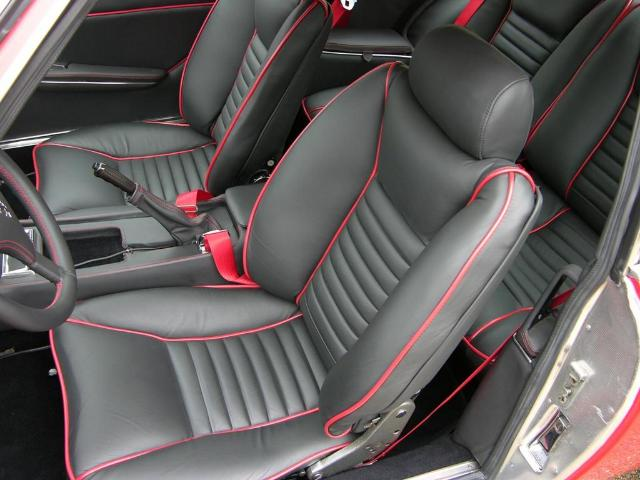Seatbelt: (200, 227, 256, 289), (174, 190, 214, 218), (328, 0, 358, 28)
